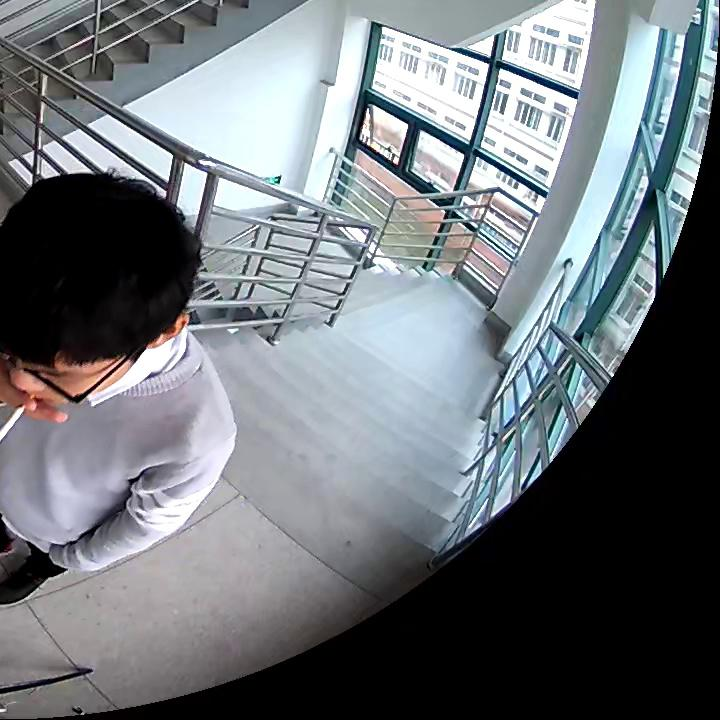mouthsmoke: (1, 175, 201, 446)
